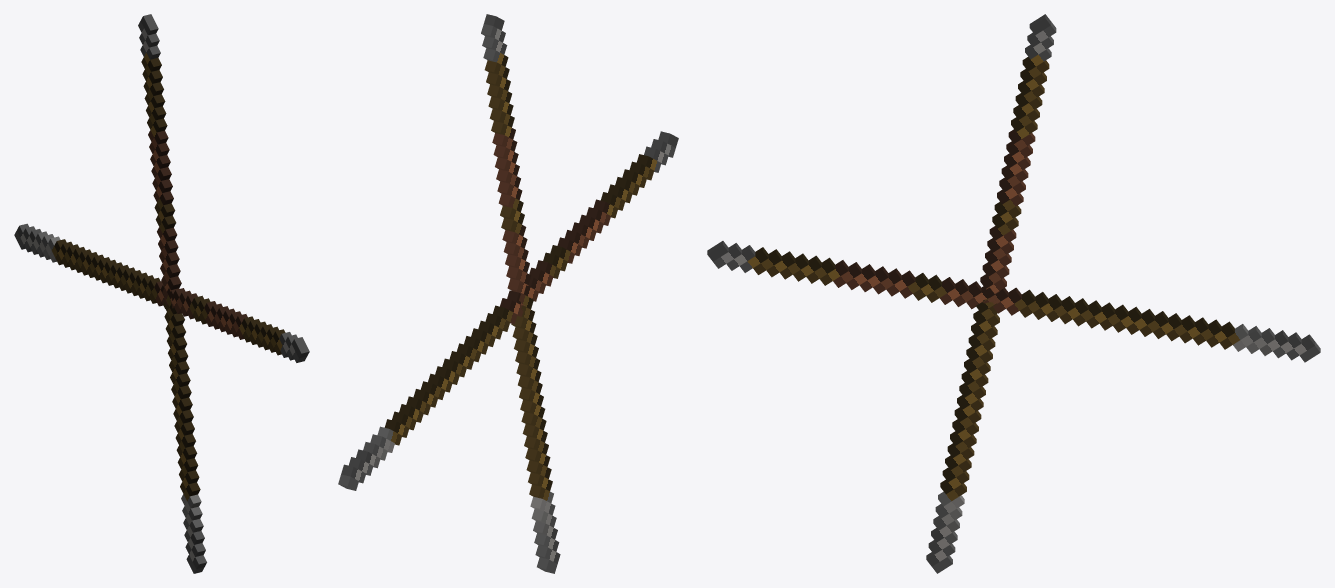
Rendered from stone_pike.glb.
The picture shows the model from 3 angles, left to right: view 1: azimuth 30°, elevation 25°; view 2: azimuth 150°, elevation 25°; view 3: azimuth 270°, elevation 25°; orthographic projection. The views are drawn at different scales.
Parts seen in each view (by area): view 1: off__Tool_L, main__Tool_R; view 2: off__Tool_L, main__Tool_R; view 3: main__Tool_R, off__Tool_L.
Part boxes in pixels (x1,y1,x2,y2): off__Tool_L: [138, 14, 206, 573]; main__Tool_R: [14, 223, 309, 362]; off__Tool_L: [481, 14, 560, 573]; main__Tool_R: [338, 131, 678, 490]; main__Tool_R: [707, 241, 1320, 362]; off__Tool_L: [926, 14, 1056, 573].
Bounding box in the file's own units: 0.0625 × 3.75 × 3.75.
1 material, 1 textured.
